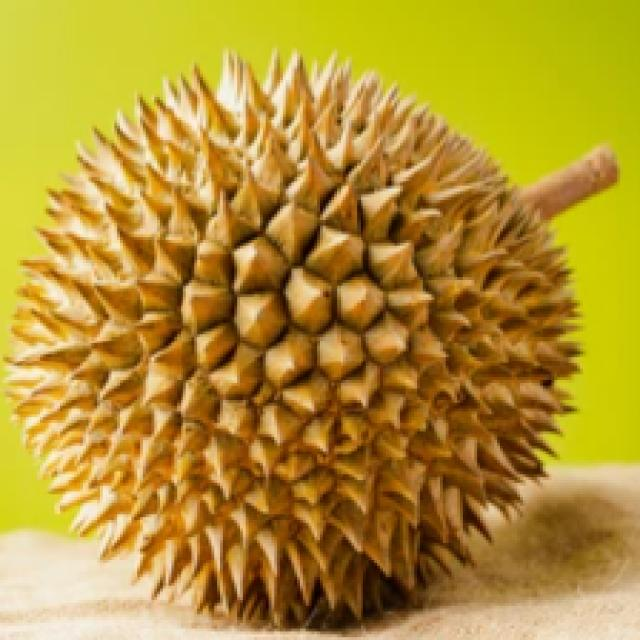d24: (37, 44, 583, 602)
